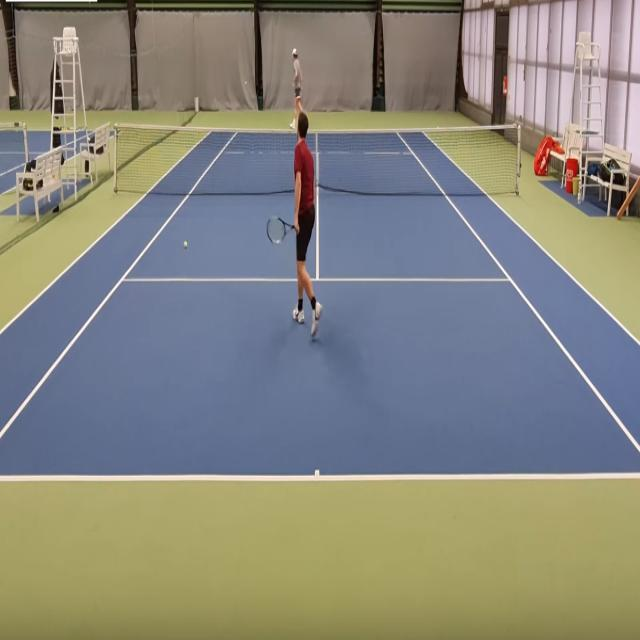ball: (183, 239, 188, 250), (245, 80, 247, 86)
